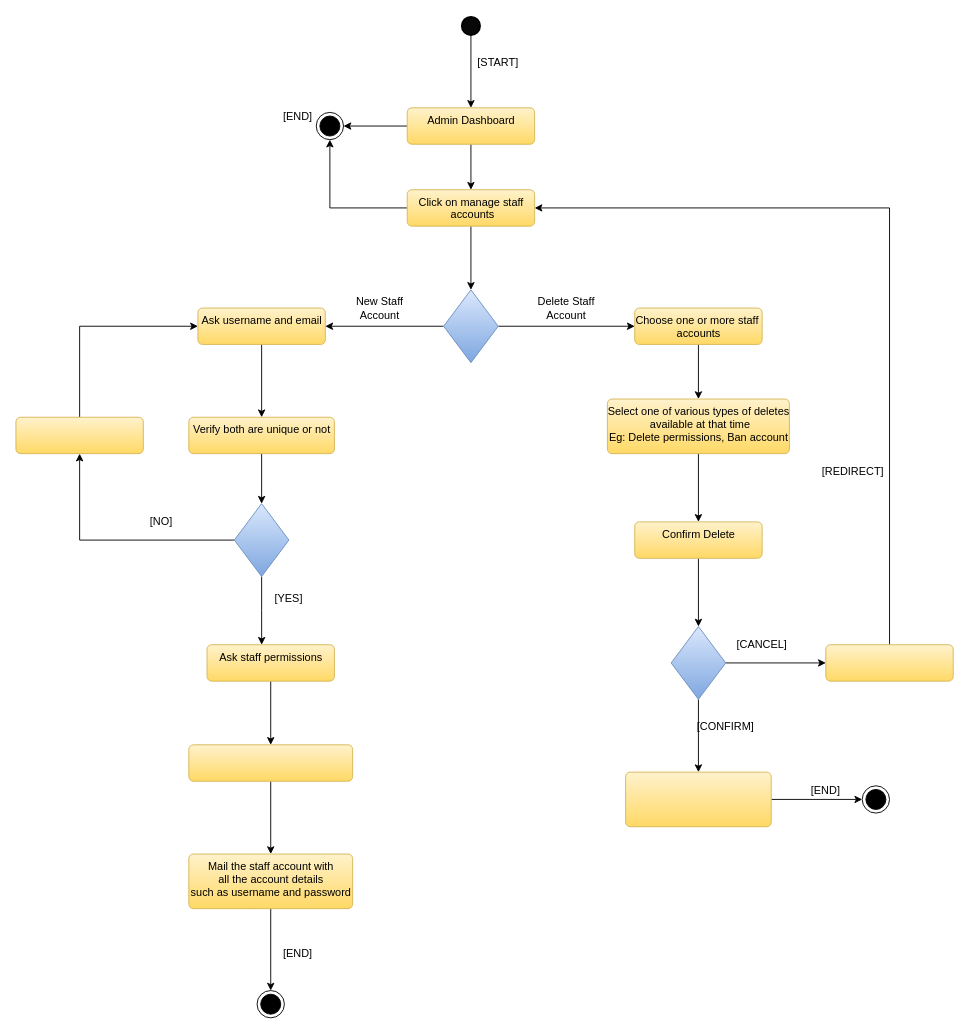
The diagram is 969 pixels wide and 1034 high, and some of its shapes have lost their labels. The box of each missing label's shape, as (x1, y1, x2, y2) in pixels:
Alert that operation has cancelled: (825, 644, 953, 681)
Delete the accounts selected with the opted choice for delete account: (625, 771, 771, 827)
set a computer generated strong password and create account: (188, 744, 353, 781)
Show error and ask again: (15, 416, 143, 454)
